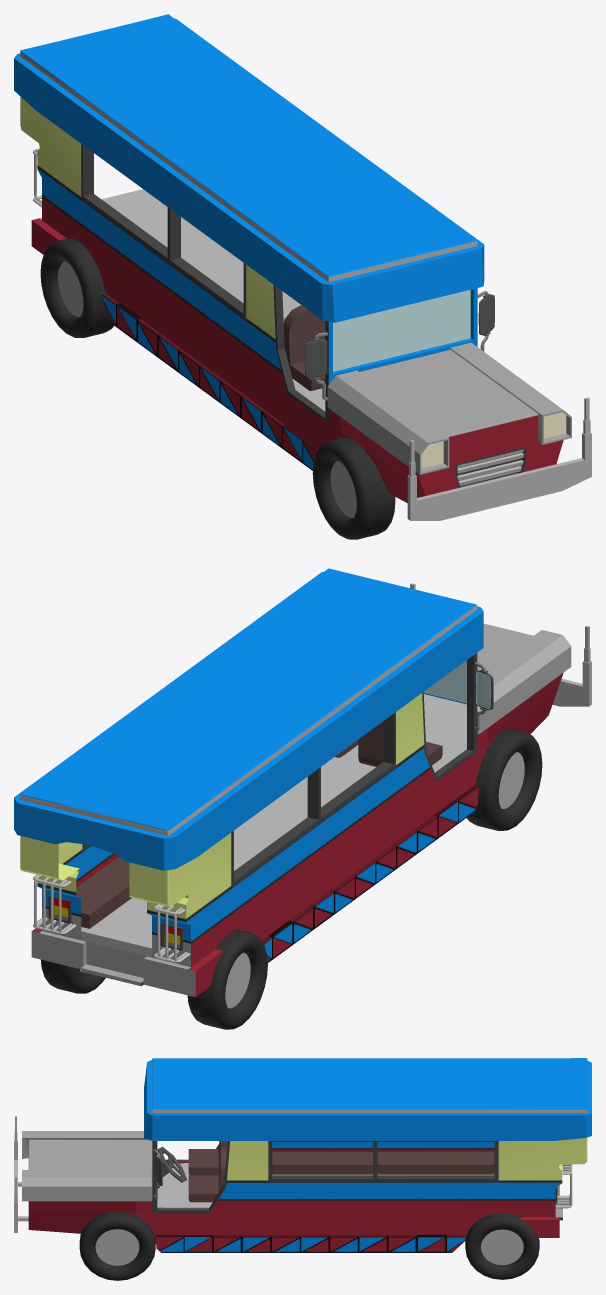
File: Jeep_Final.fbx
The picture shows the model from 3 angles, top to bottom: view 1: azimuth 30°, elevation 25°; view 2: azimuth 150°, elevation 25°; view 3: azimuth 270°, elevation 25°; orthographic projection. The views are drawn at different scales.
Parts seen in each view (by area): view 1: JeepBody, polySurface32, Front, Floor, polySurface33, Front_Seat, SideMirror_L4; view 2: JeepBody, Floor, polySurface33, polySurface32, Passenger_Seat, Front, Front_Seat, SideMirror_L4; view 3: JeepBody, Passenger_Seat, polySurface32, polySurface33, Front_Seat, Floor, Front, polySurface35.
Boxes of the visible parts, x1,y1,x2,y2 form: JeepBody: (14,14,571,502); polySurface32: (312,437,395,539); Front: (407,397,591,520); Floor: (61,189,341,437); polySurface33: (40,238,113,337); Front_Seat: (283,305,325,390); SideMirror_L4: (304,338,327,379); JeepBody: (14,568,571,997); Floor: (81,694,466,957); polySurface33: (41,930,267,1029); polySurface32: (467,728,542,830); Passenger_Seat: (76,857,131,928); Front: (410,583,591,706); Front_Seat: (335,721,442,766); SideMirror_L4: (475,669,493,711); JeepBody: (22,1058,591,1252); Passenger_Seat: (272,1152,494,1174); polySurface32: (79,1212,155,1280); polySurface33: (465,1213,539,1279); Front_Seat: (188,1141,227,1202); Floor: (157,1163,493,1208); Front: (14,1116,28,1232); polySurface35: (157,1147,186,1182).
Size of the model in its own units: 4.34 by 5.12 by 15.97.
Materials: 7 (3 with a texture image).
